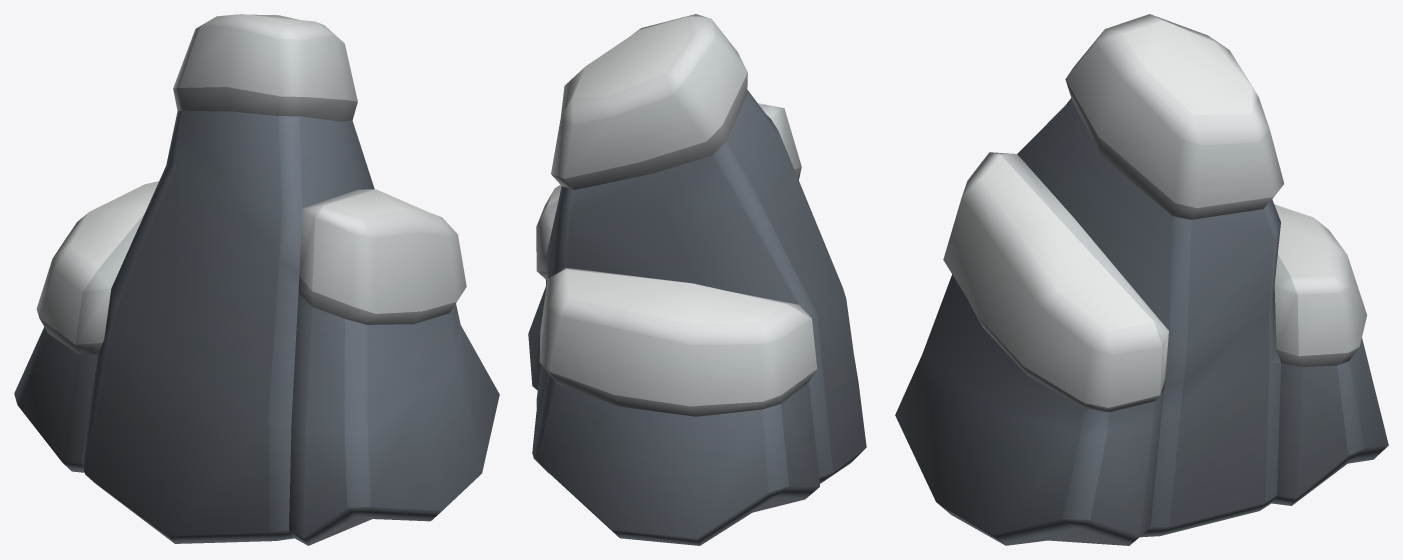
The model's file is rock_snow_020.fbx.
3 renders of one model, left to right at view 1: azimuth 30°, elevation 25°; view 2: azimuth 150°, elevation 25°; view 3: azimuth 270°, elevation 25°, orthographic. The views are drawn at different scales.
Parts seen in each view (by area): view 1: rock_snow_020; view 2: rock_snow_020; view 3: rock_snow_020.
Boxes of the visible parts, left/top/right/bottom form: rock_snow_020: left=14, top=14, right=499, bottom=545; rock_snow_020: left=528, top=14, right=866, bottom=545; rock_snow_020: left=895, top=14, right=1388, bottom=545.
Bounding box in the file's own units: 249 × 306 × 283.
